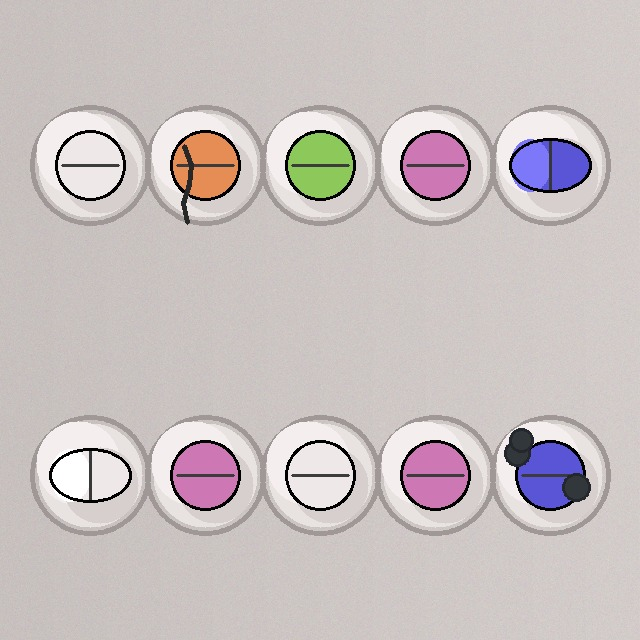crack: (143, 103, 267, 227)
stain: (488, 413, 612, 537)
